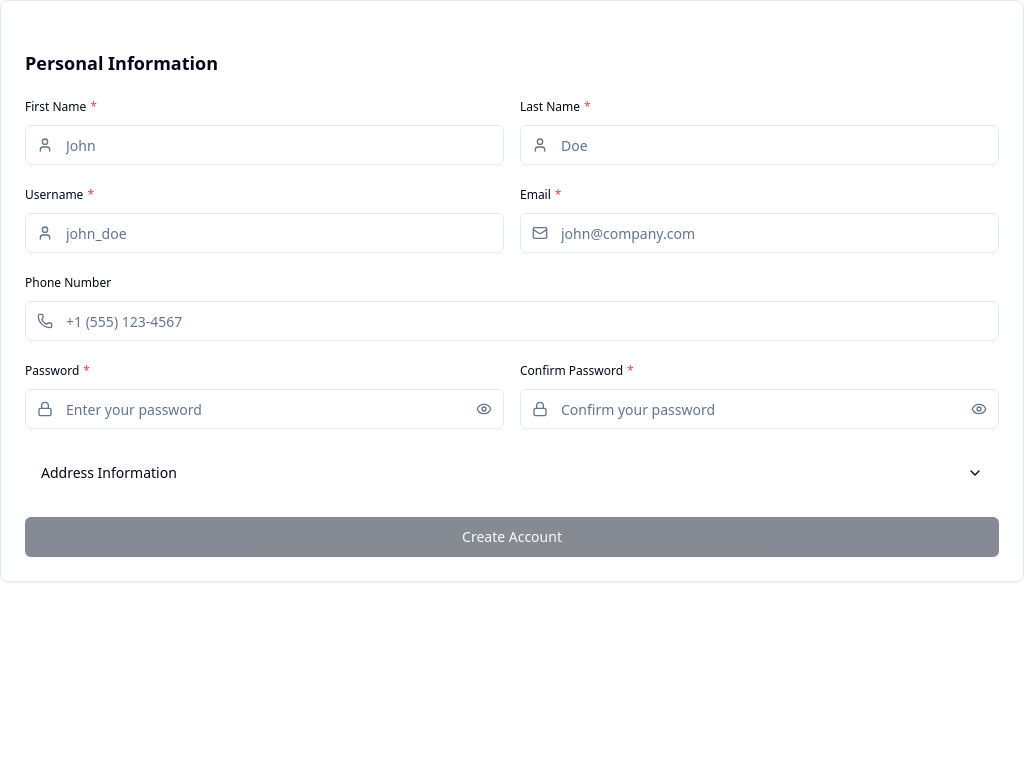
Test: FlexibleSignUpForm › Address Section › FlexibleSignUpForm_shouldRenderCollapsibleAddressSection
Expected: the field labelled "Street" is not shown
# Click to expand
What coordinates should you click on to do the following:
click the button "Address Information"
I would click on:
 (109, 472)
Its box is [25, 453, 999, 493].
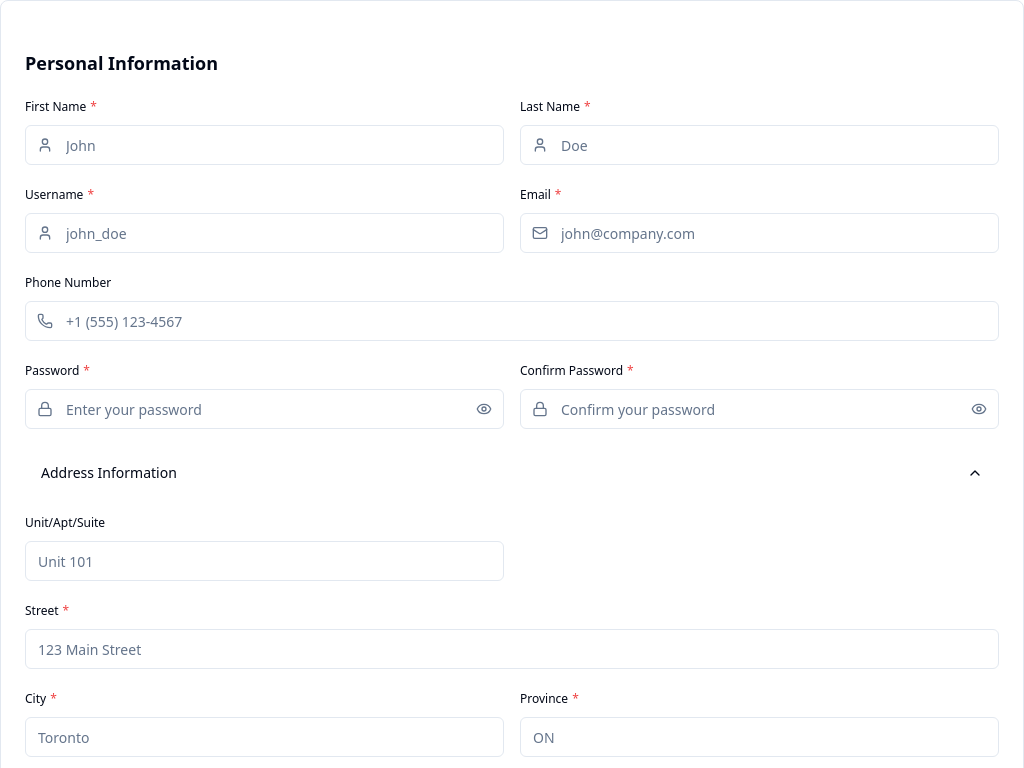
Result: the field labelled "Street*" is shown at [25, 629, 999, 669]
